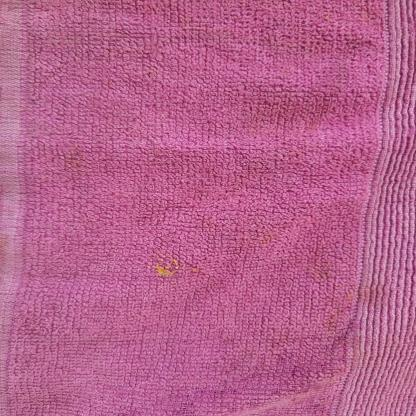spot: (352, 273, 412, 309), (337, 341, 395, 371), (148, 254, 207, 282), (65, 141, 91, 178), (244, 224, 284, 247), (302, 254, 329, 283), (0, 228, 18, 268), (321, 300, 342, 334), (160, 257, 194, 274)
